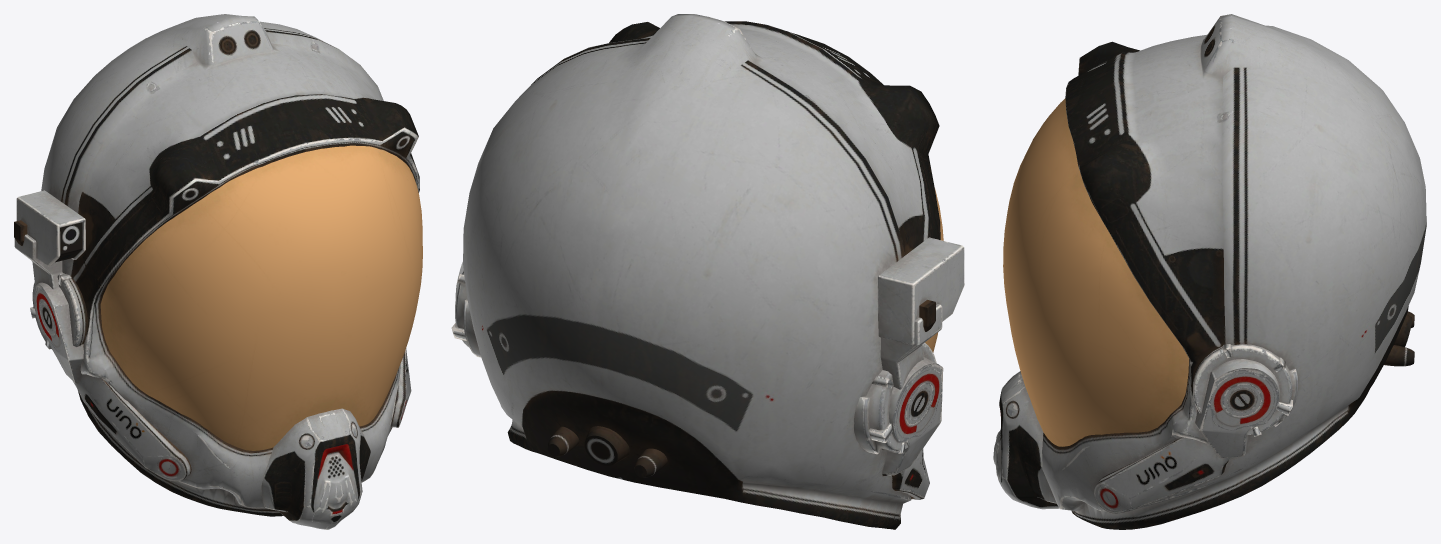
Rendered from UinoHelmet.gltf.
3 views of the same model, side by side, from view 1: azimuth 30°, elevation 25°; view 2: azimuth 150°, elevation 25°; view 3: azimuth 270°, elevation 25° (orthographic). The views are drawn at different scales.
Visible parts, largest first — view 1: a01; view 2: a01; view 3: a01.
Part boxes in pixels (x1,y1,x2,y2): a01: (14,14,422,529); a01: (451,14,964,529); a01: (993,14,1426,529).
Bounding box in the file's own units: 0.6084 × 0.6749 × 0.5491.
1 material, 1 textured.
